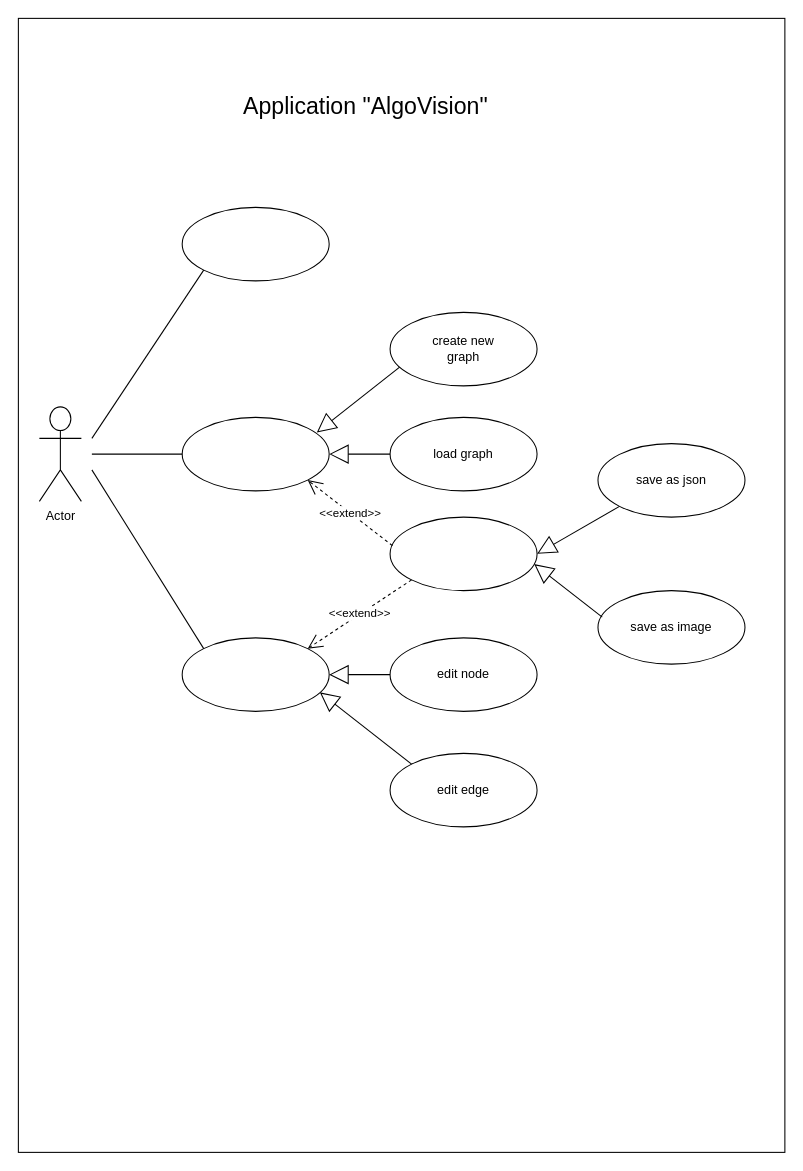
The diagram is 803 pixels wide and 1171 high, and some of its shapes have lost their labels. The shapes that lost their labels are listed below. From the top down, each one's centre as x and y in pixels, then its label:
At (x=255, y=243): "run algorithm".
At (x=255, y=453): "create graph".
At (x=463, y=553): "save graph".
At (x=255, y=674): "edit graph".
